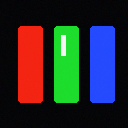4 line_v: (61, 35, 65, 55)
